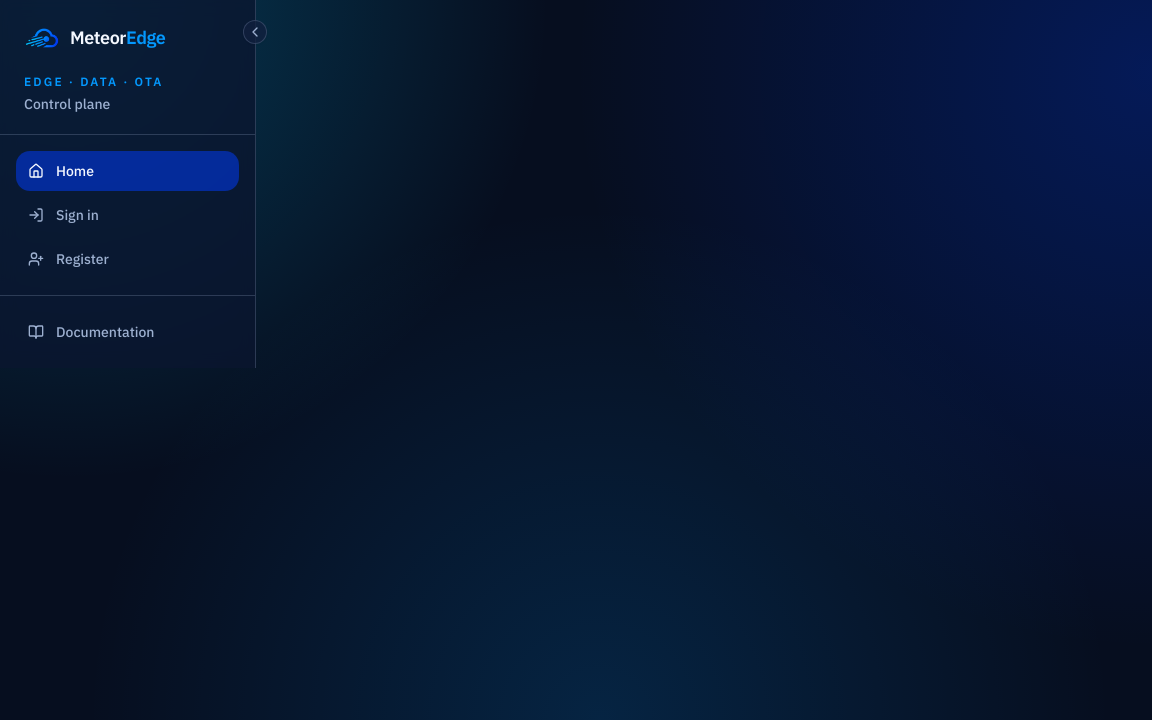
Scenario: Sidebar › collapses and remembers the navigation rail preference
The width and height of the screenshot is (1152, 720).
Click the button named "Collapse sidebar": (255, 32) [243, 20, 267, 44]
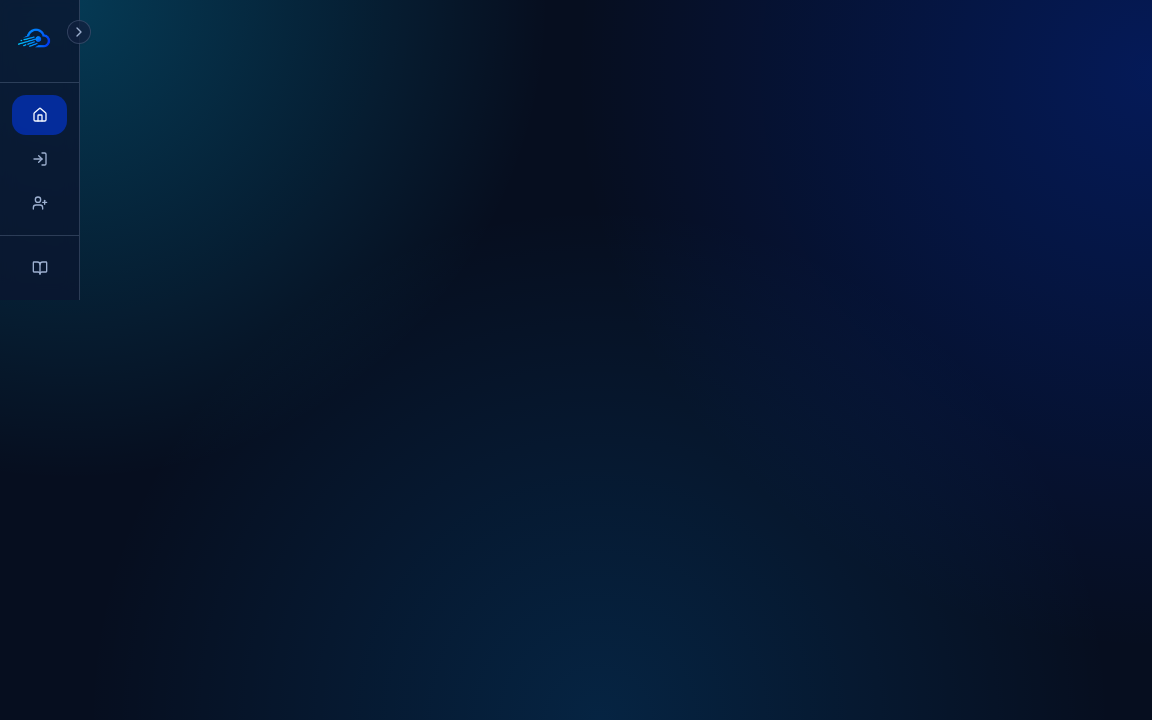
Check: the button named "Expand sidebar" is shown, box [67, 20, 91, 44]
